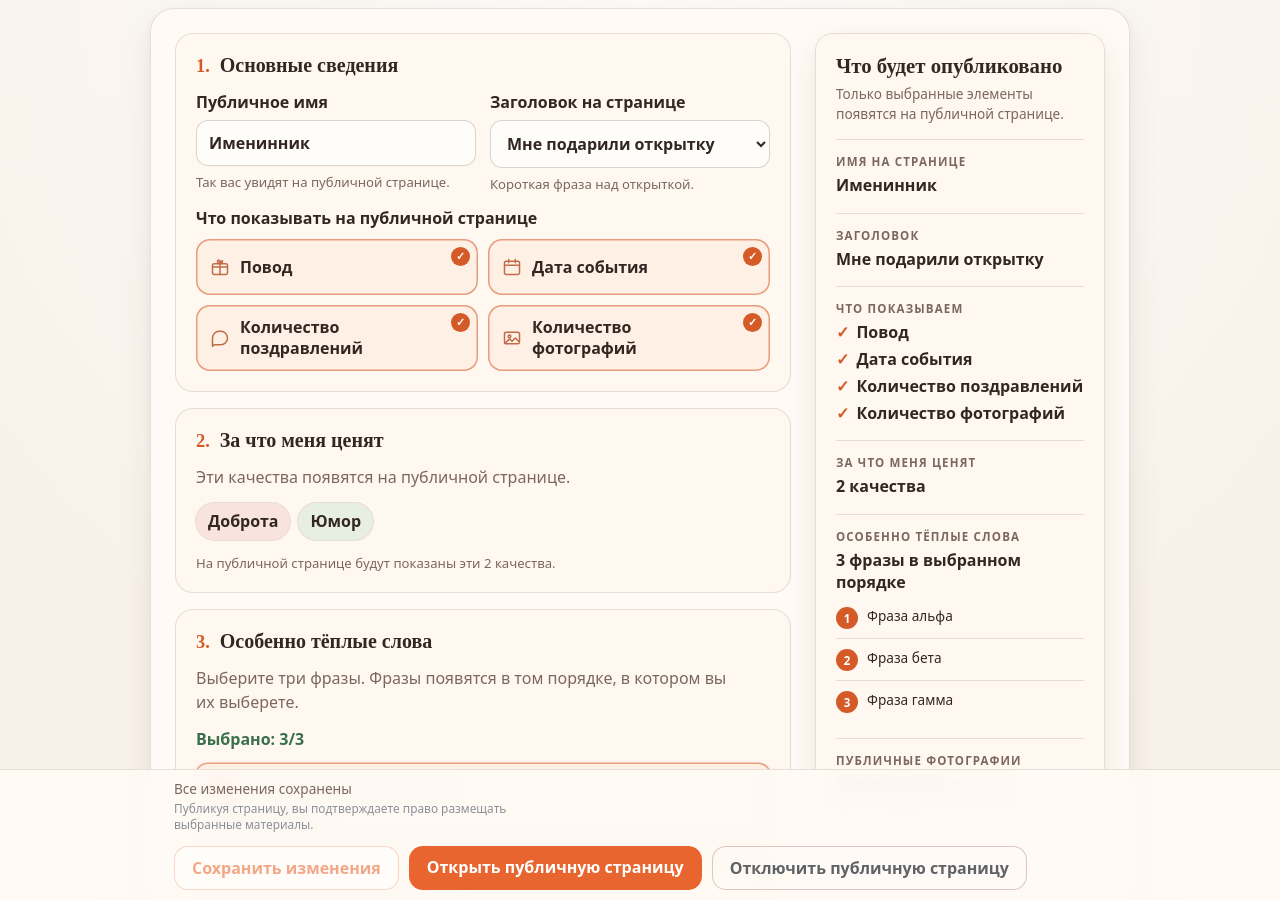
Test: PublicSharePanel: отключение публичной страницы › подтверждение вызывает revokePublicShareAction с finalSlug
Click the button "Отключить публичную страницу" at coordinates (869, 868), box [712, 846, 1027, 890]
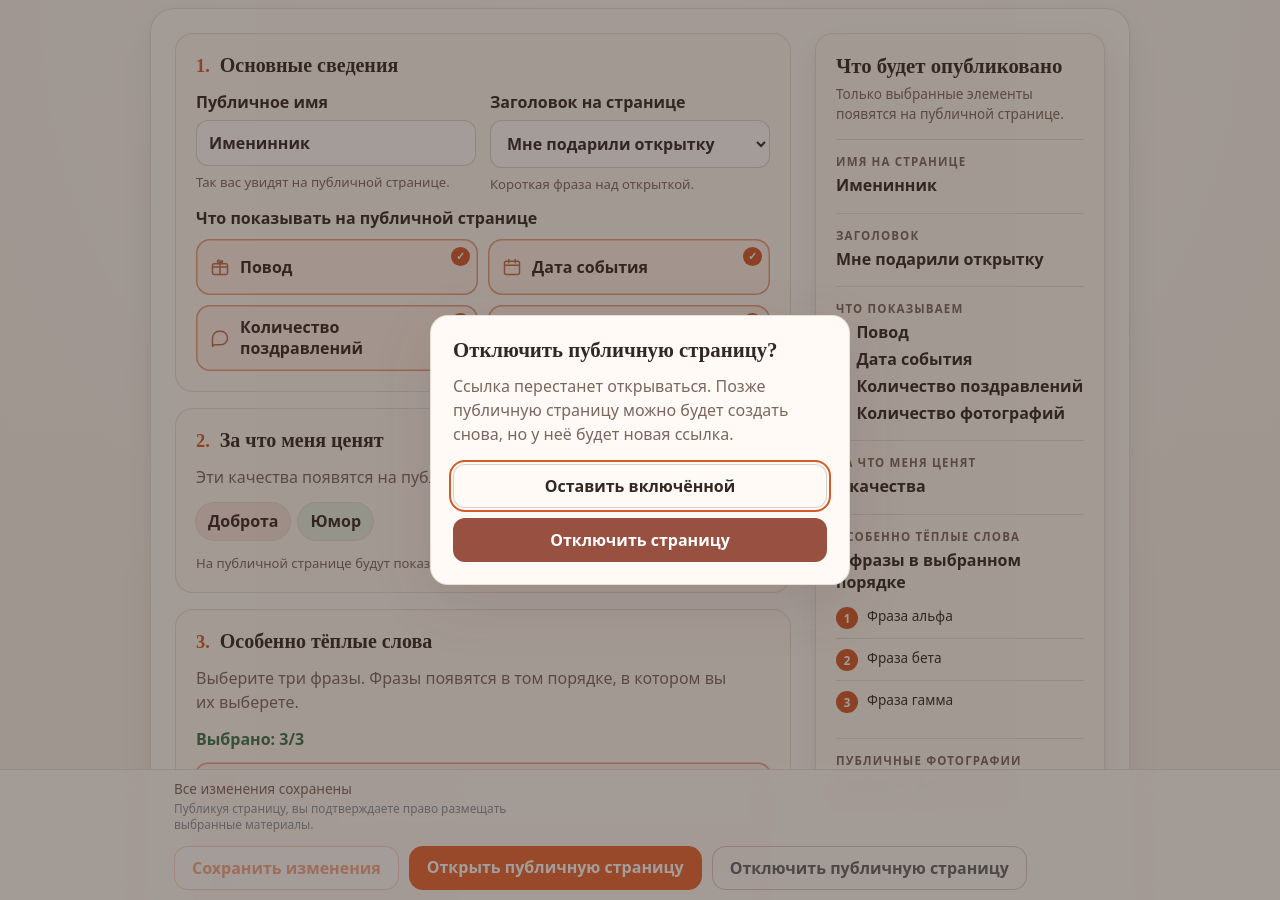
Click the button "Отключить страницу" at coordinates (640, 540), box [453, 518, 827, 562]
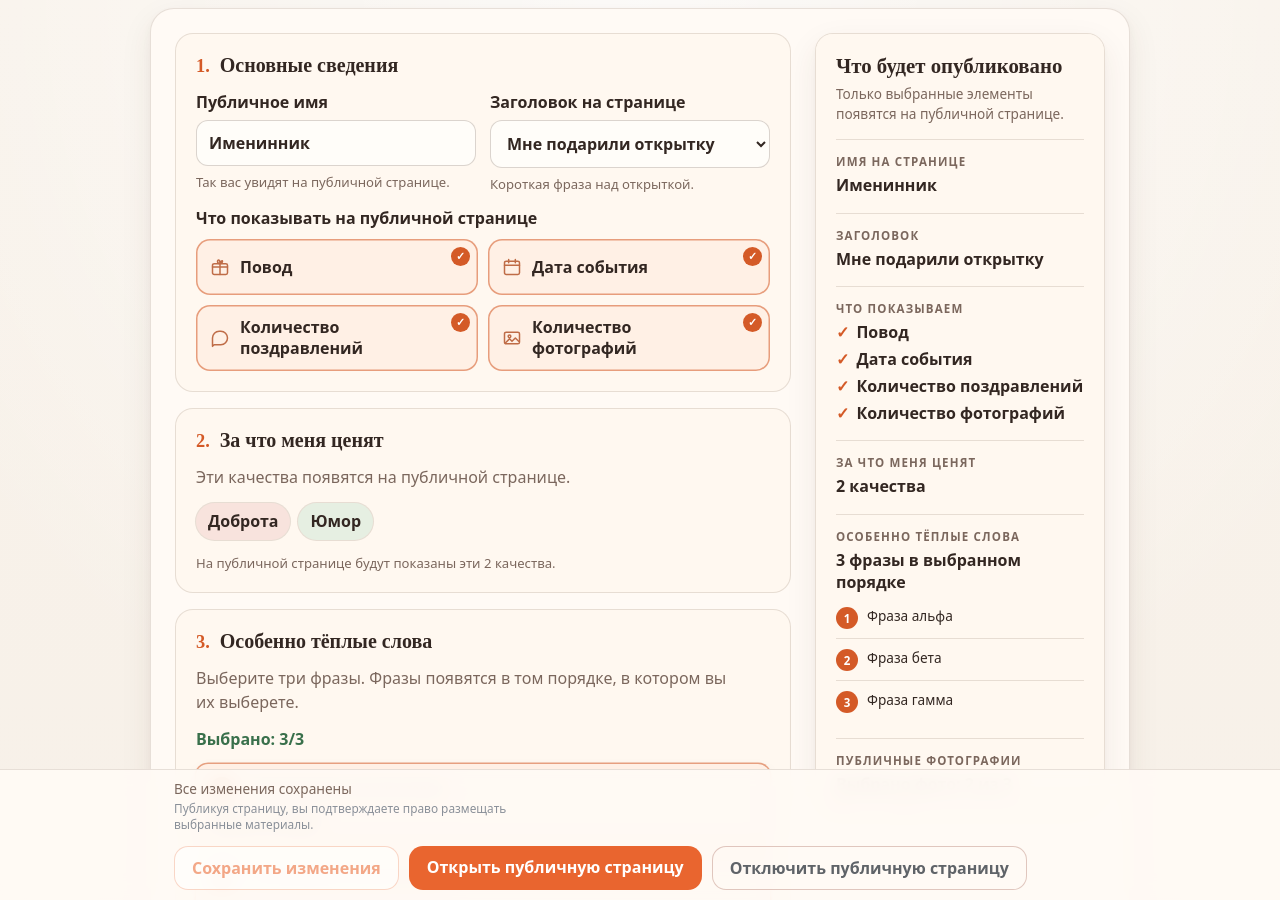
Result: the dialog is gone
